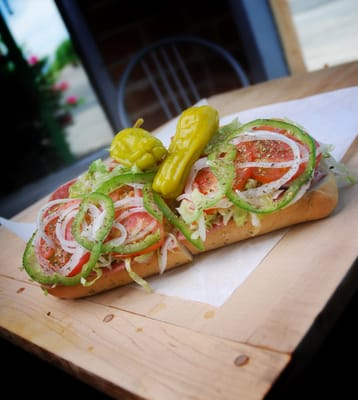soup: (20, 103, 348, 300), (21, 172, 190, 299)
